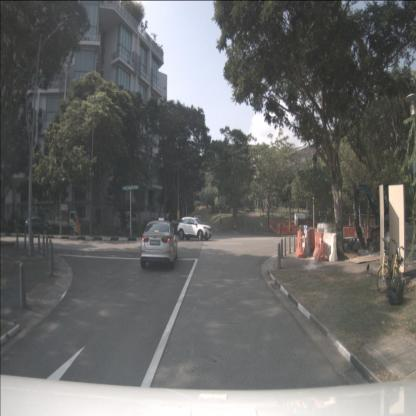barrier: (322, 232, 338, 262), (313, 232, 325, 262), (306, 227, 316, 252), (296, 231, 305, 258), (302, 230, 310, 257), (343, 227, 356, 239), (274, 223, 282, 236), (288, 225, 298, 235), (299, 225, 309, 234), (281, 225, 289, 236), (272, 221, 278, 233), (268, 219, 274, 230)
cone: (294, 235, 297, 248)
